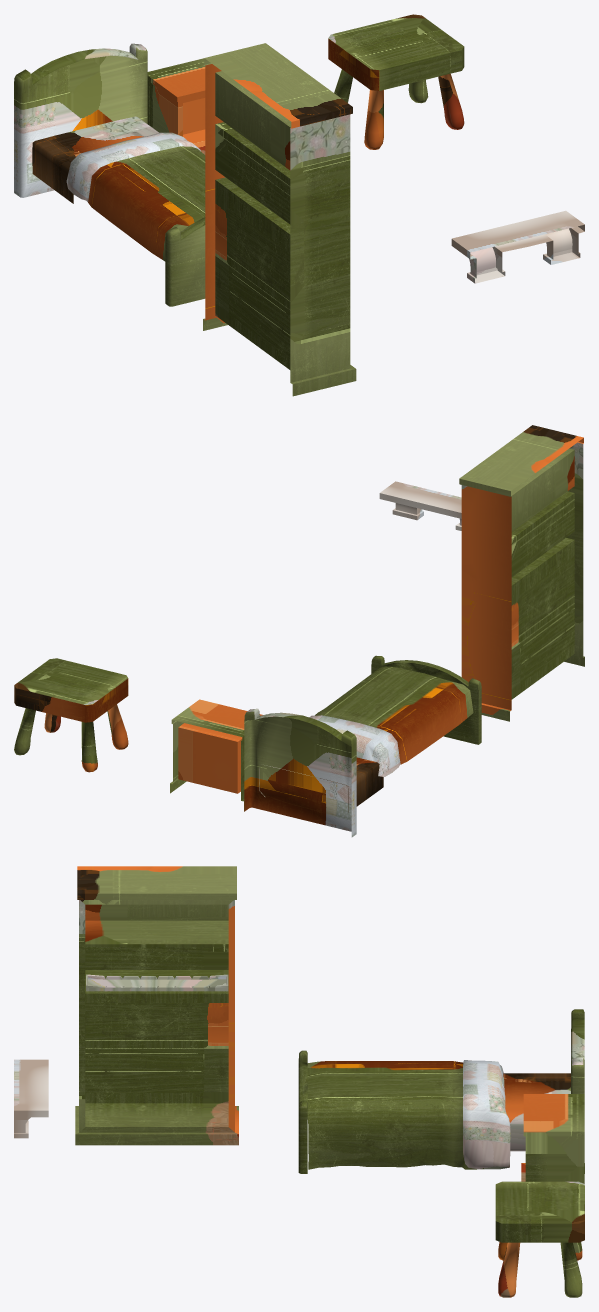
The model's file is SM_Kidroom_Furniture_Mat_ 1.fbx.
3 renders of one model, top to bottom at view 1: azimuth 30°, elevation 25°; view 2: azimuth 150°, elevation 25°; view 3: azimuth 270°, elevation 25°, orthographic. The views are drawn at different scales.
Parts seen in each view (by area): view 1: SM_Furniture_join; view 2: SM_Furniture_join; view 3: SM_Furniture_join, SM_CubeGame_Handle.
Boxes of the visible parts, box(x1,y1,x2,y2) form: SM_Furniture_join: box(14, 14, 584, 396); SM_Furniture_join: box(14, 425, 584, 837); SM_Furniture_join: box(14, 866, 584, 1297); SM_CubeGame_Handle: box(86, 974, 228, 991).
Size of the model in its own units: 3 by 1.94 by 4.
